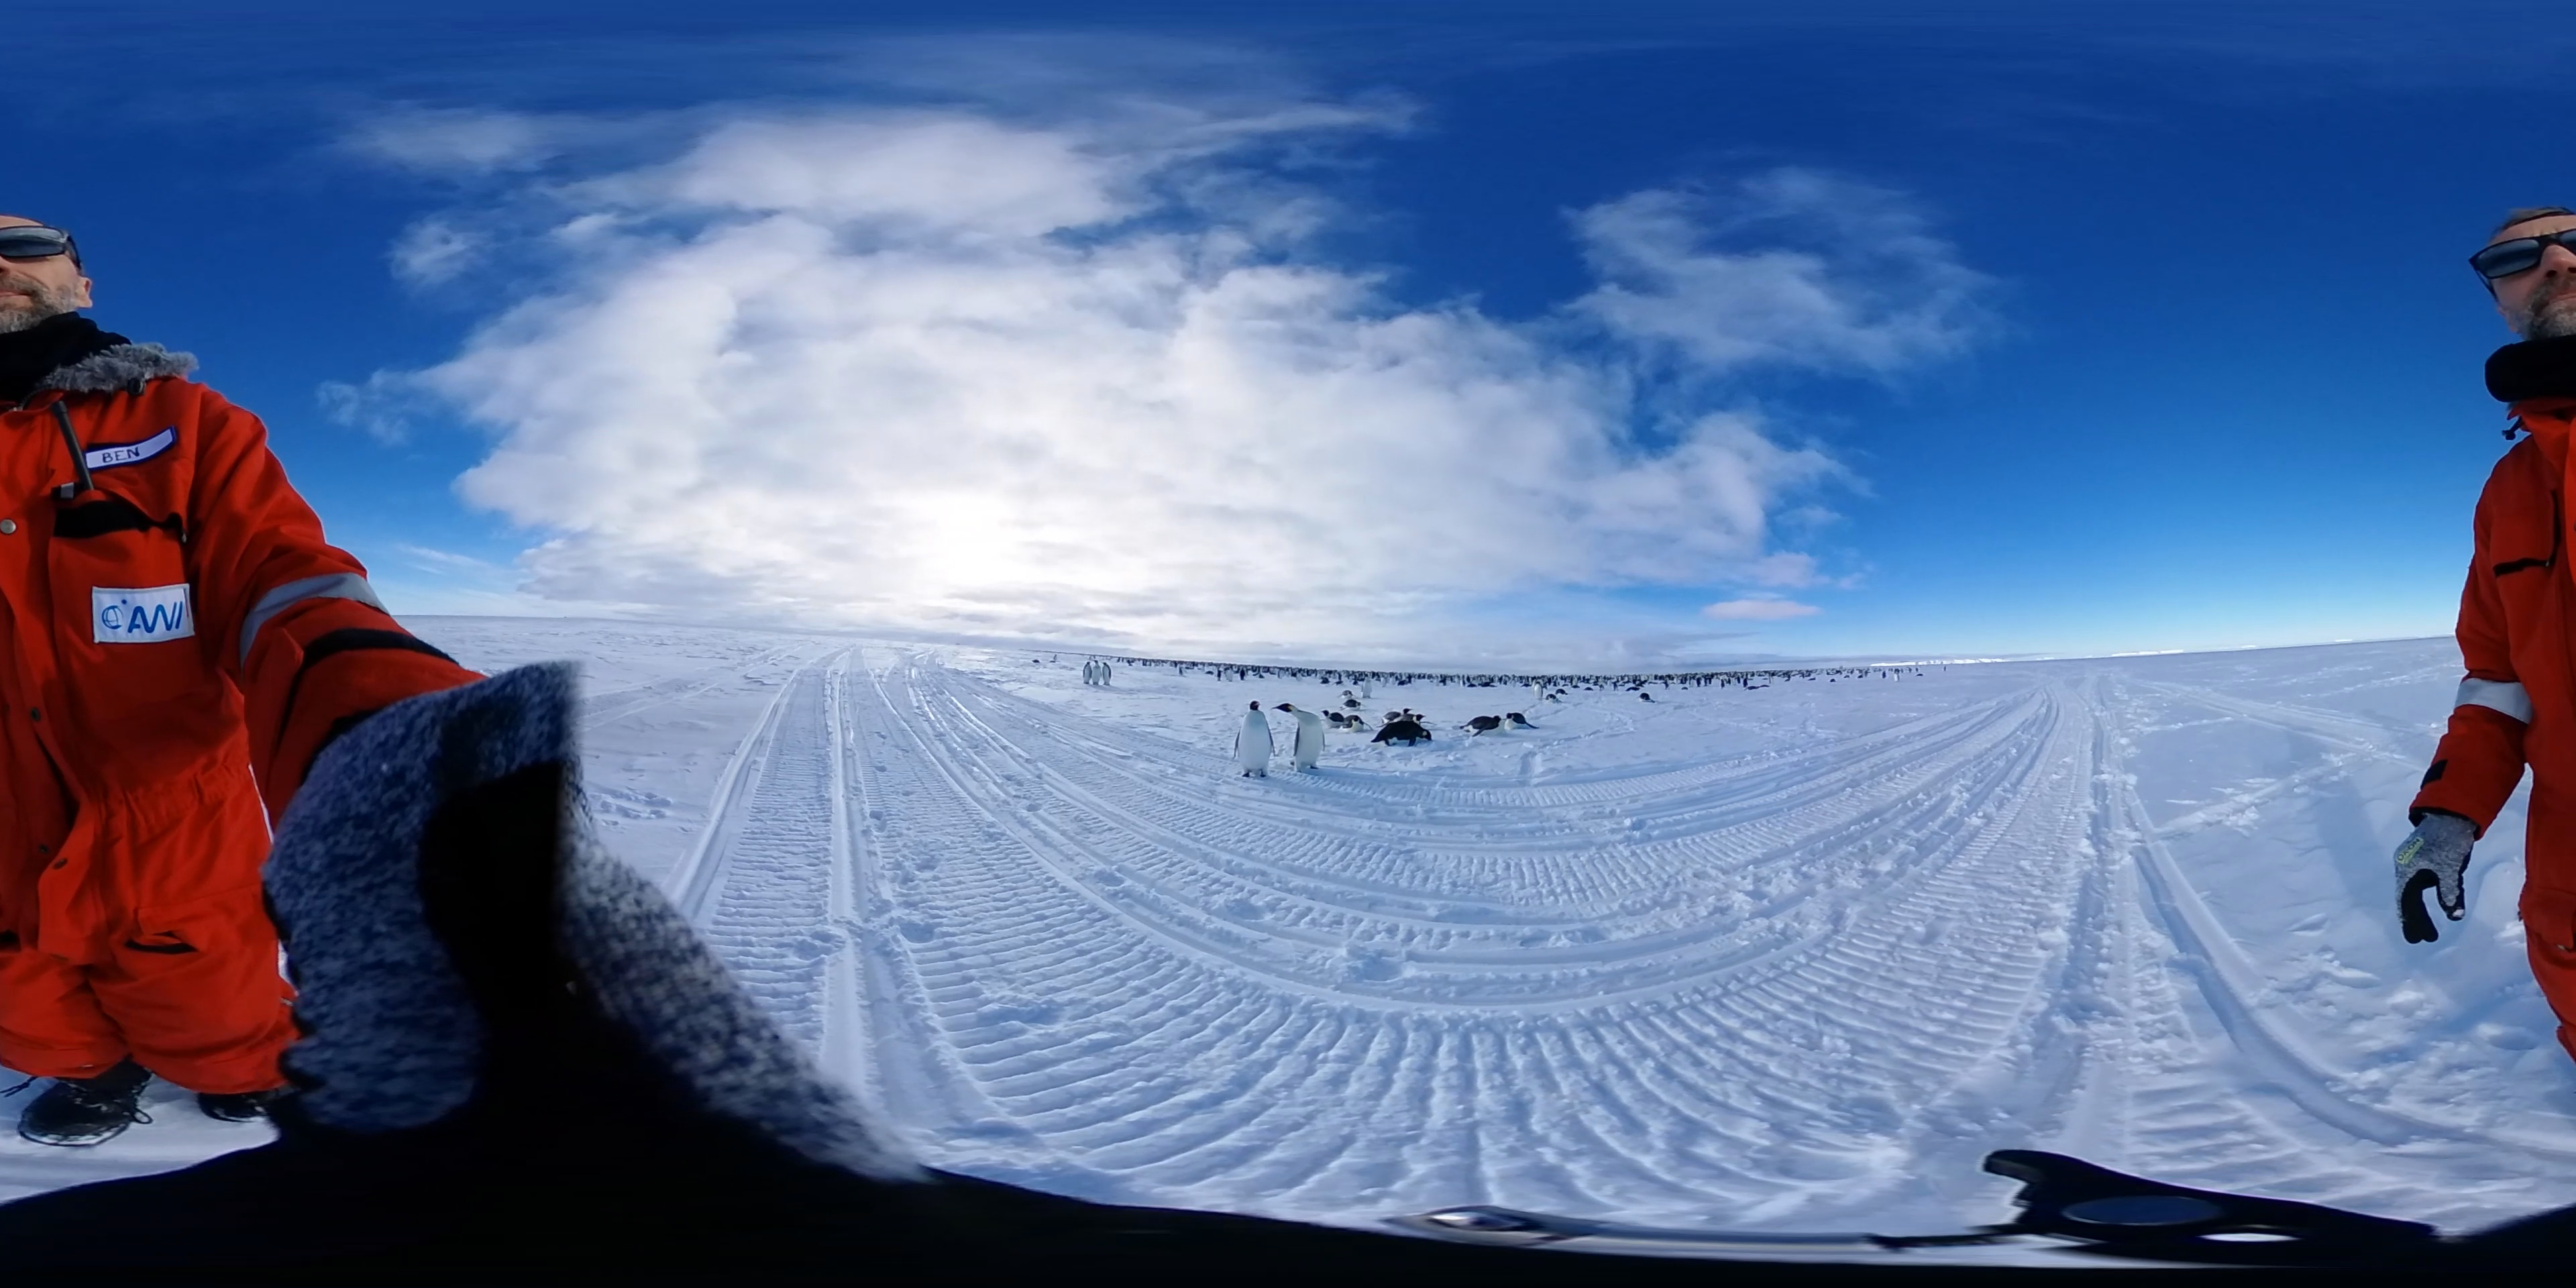adult_standing_penguin: (1270, 693, 1327, 772), (1229, 698, 1278, 784), (1091, 659, 1102, 688), (1099, 659, 1112, 683), (1079, 659, 1091, 685), (1534, 680, 1546, 703)
adult_toboggan_penguin: (1370, 724, 1436, 752), (1457, 711, 1502, 738), (1332, 711, 1373, 736), (1503, 710, 1541, 731), (1321, 703, 1345, 729), (1377, 706, 1416, 723), (1387, 713, 1429, 726), (1339, 697, 1365, 711), (1638, 690, 1653, 703), (1339, 688, 1357, 697)
researcher: (0, 194, 501, 1155), (2408, 187, 2576, 1119)
